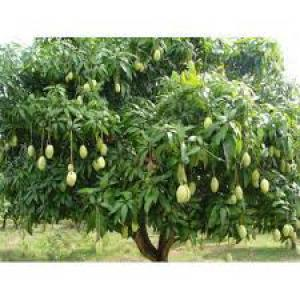Tree: (1, 37, 299, 259)
